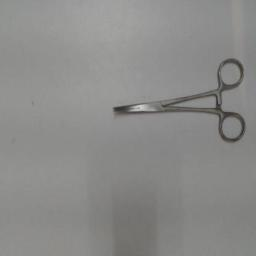Crile Artery Forceps: (104, 52, 250, 148)
